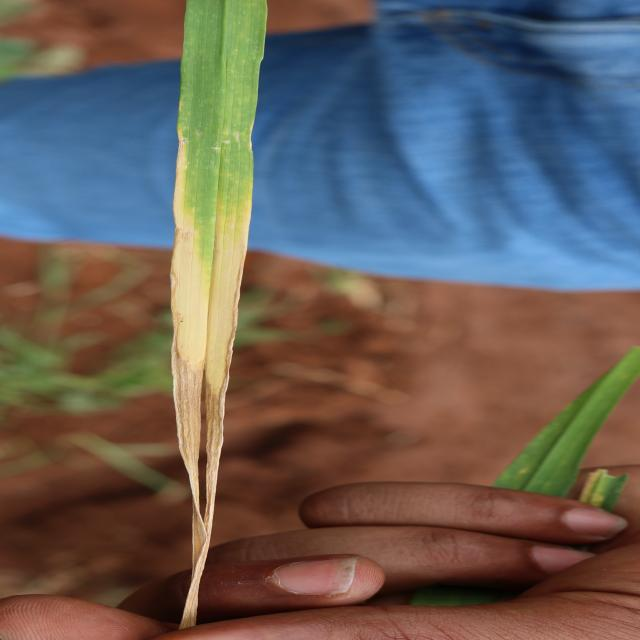Septoria: (173, 132, 204, 476), (216, 201, 244, 424), (206, 427, 224, 530), (188, 477, 196, 626)
